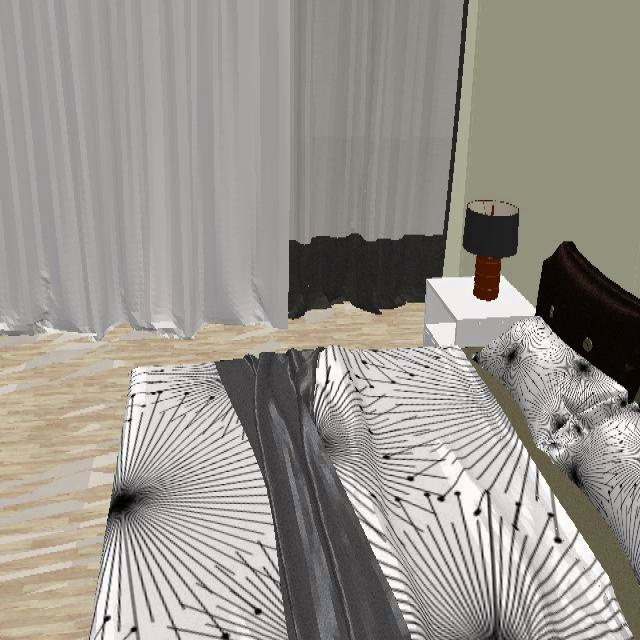bed: (96, 293, 640, 640)
lamp: (462, 199, 521, 308)
nighttable: (424, 277, 535, 348)
pillow: (476, 319, 640, 604)
